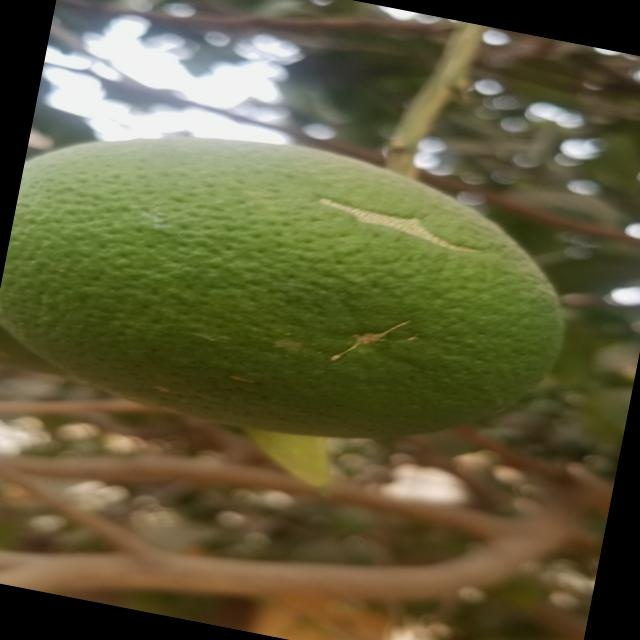agrume: (0, 98, 588, 482)
